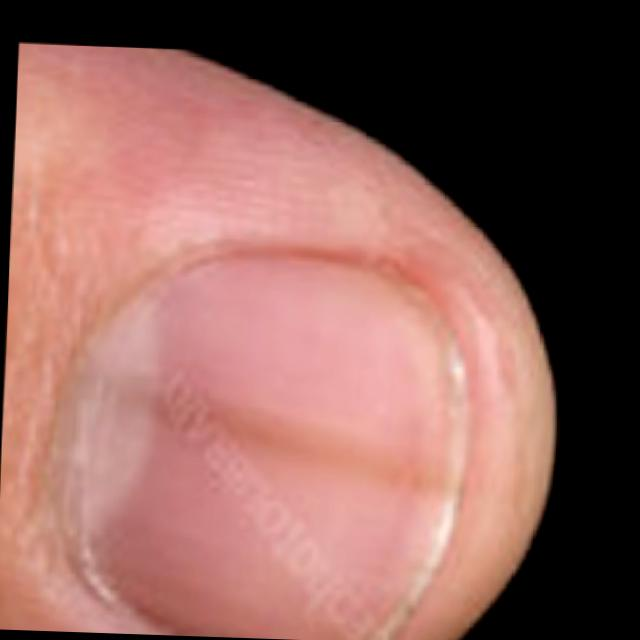Nail: (73, 238, 461, 634)
